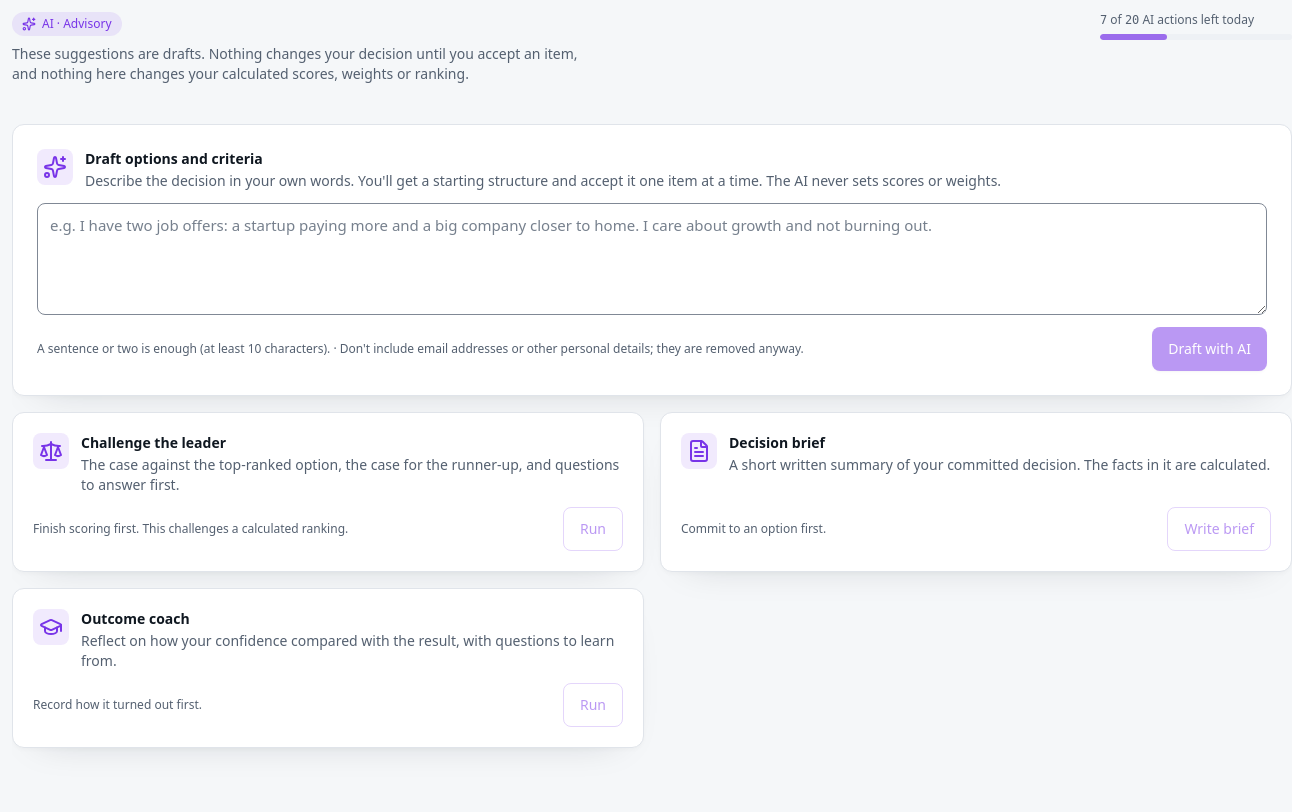
running an action › needs a real description before drafting
Expected: the button "Draft with AI" is disabled, x1=1152 y1=327 x2=1267 y2=371
Type "Two job offers to compare" into the text box named "Describe your decision" at (652, 259), box x1=37 y1=203 x2=1267 y2=315
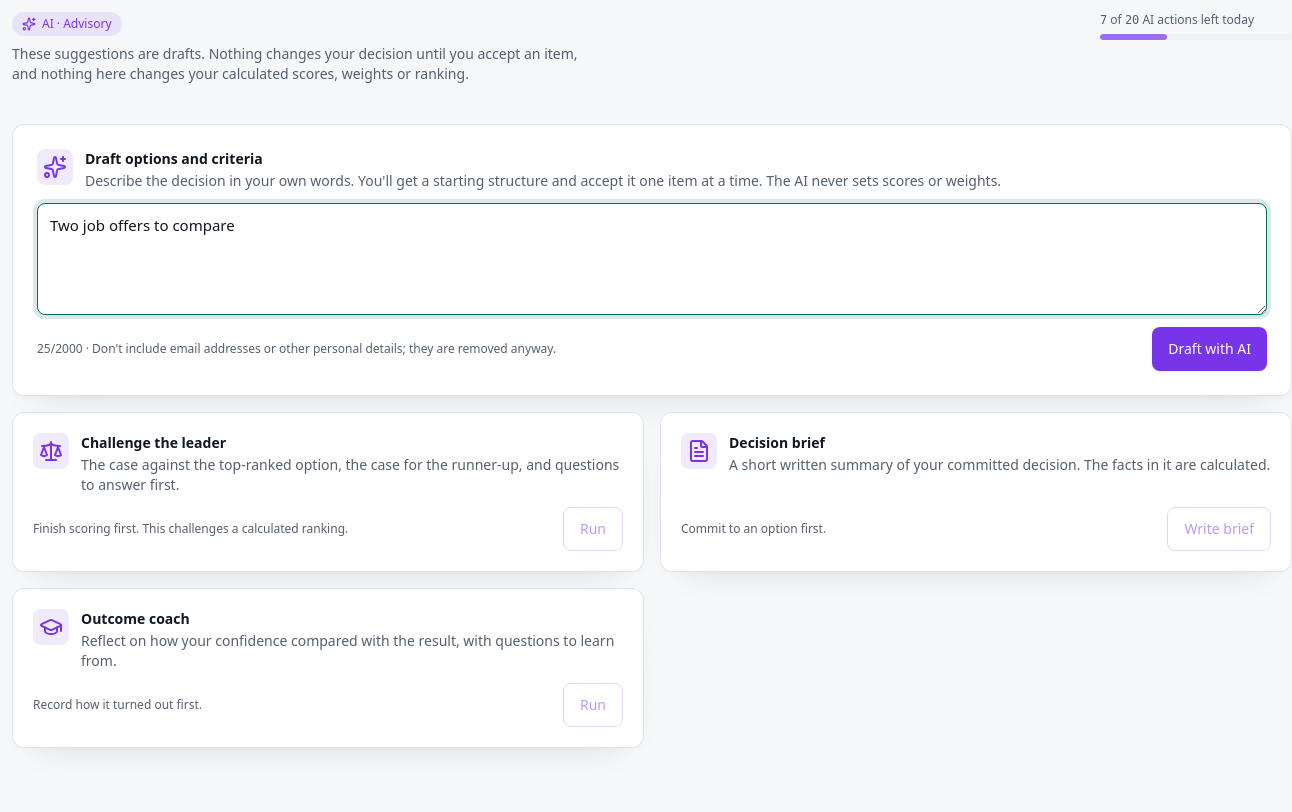
Expected: the button "Draft with AI" is enabled, x1=1152 y1=327 x2=1267 y2=371
